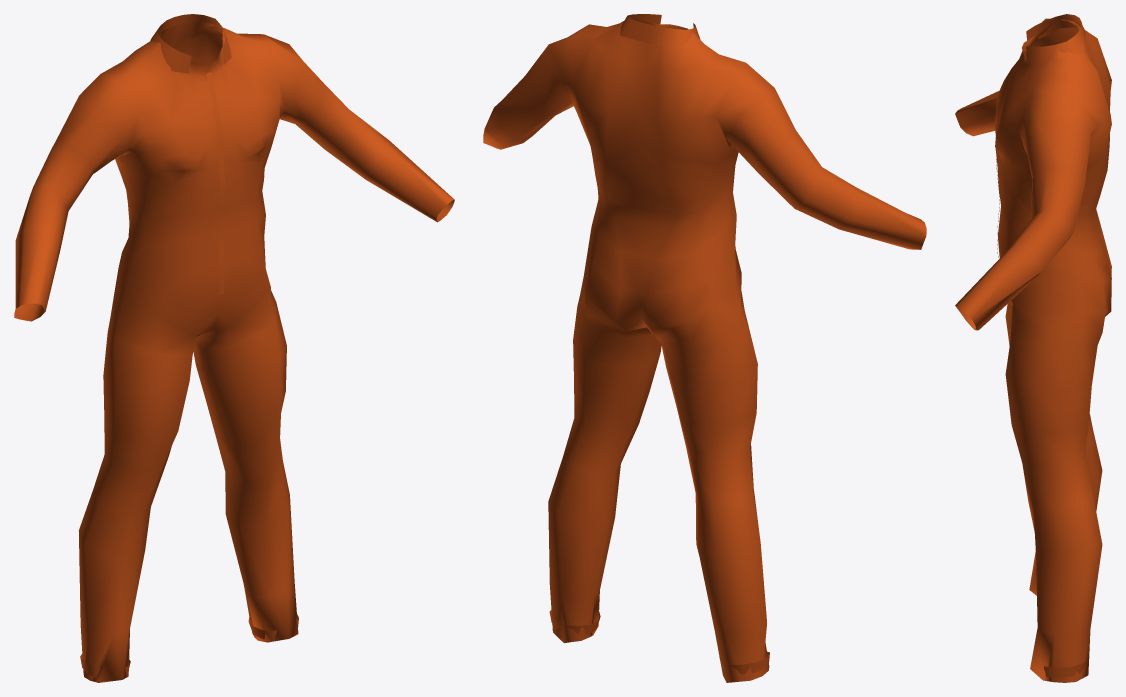
The model's file is jumpsuit.glb.
The picture shows the model from 3 angles, left to right: view 1: azimuth 30°, elevation 25°; view 2: azimuth 150°, elevation 25°; view 3: azimuth 270°, elevation 25°; orthographic projection. The views are drawn at different scales.
Visible parts, largest first — view 1: jumpsuit; view 2: jumpsuit; view 3: jumpsuit.
Part boxes in pixels (left/top/right/bottom): jumpsuit: left=14, top=14, right=454, bottom=682; jumpsuit: left=483, top=14, right=926, bottom=682; jumpsuit: left=955, top=14, right=1111, bottom=682.
Size of the model in its own units: 1.07 by 1.48 by 0.3424.
